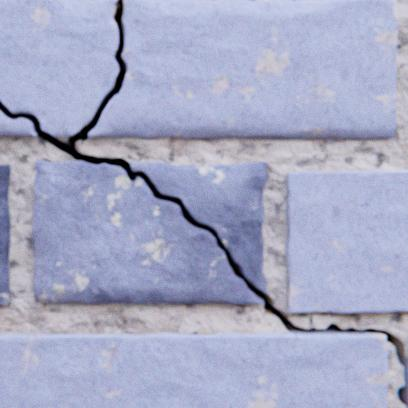brick: (0, 332, 386, 407), (285, 170, 407, 312), (0, 164, 11, 305), (406, 342, 407, 400)
broken_brick: (0, 0, 396, 138), (33, 161, 262, 303), (130, 162, 267, 292), (0, 111, 36, 136)
crack: (0, 1, 407, 407)
